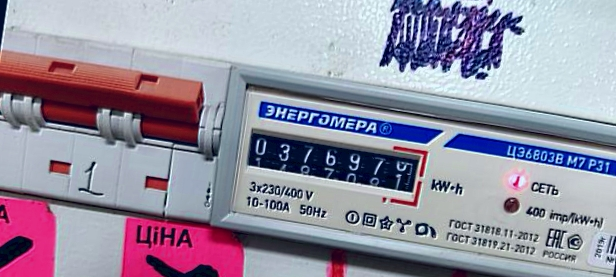0: (253, 135, 269, 157)
1: (391, 171, 405, 190)
3: (276, 141, 292, 162)
6: (323, 145, 339, 167)
7: (299, 142, 315, 165), (370, 154, 385, 177)
9: (347, 150, 361, 173)
screen: (236, 118, 433, 209)
